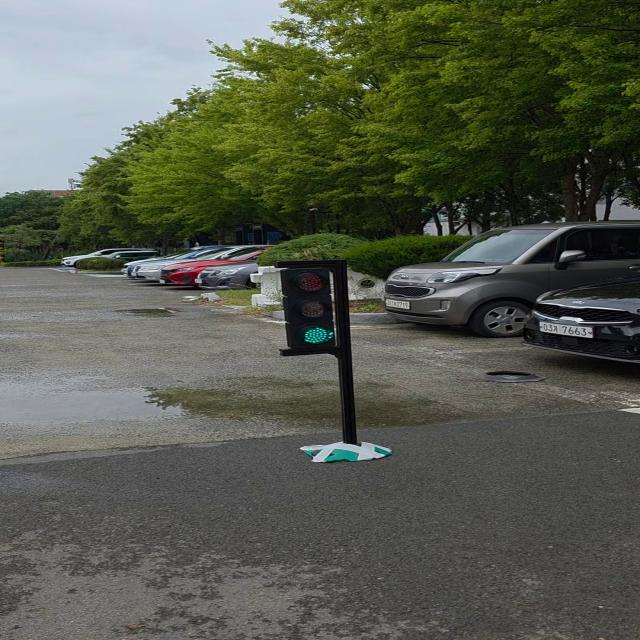green: (286, 262, 344, 356)
